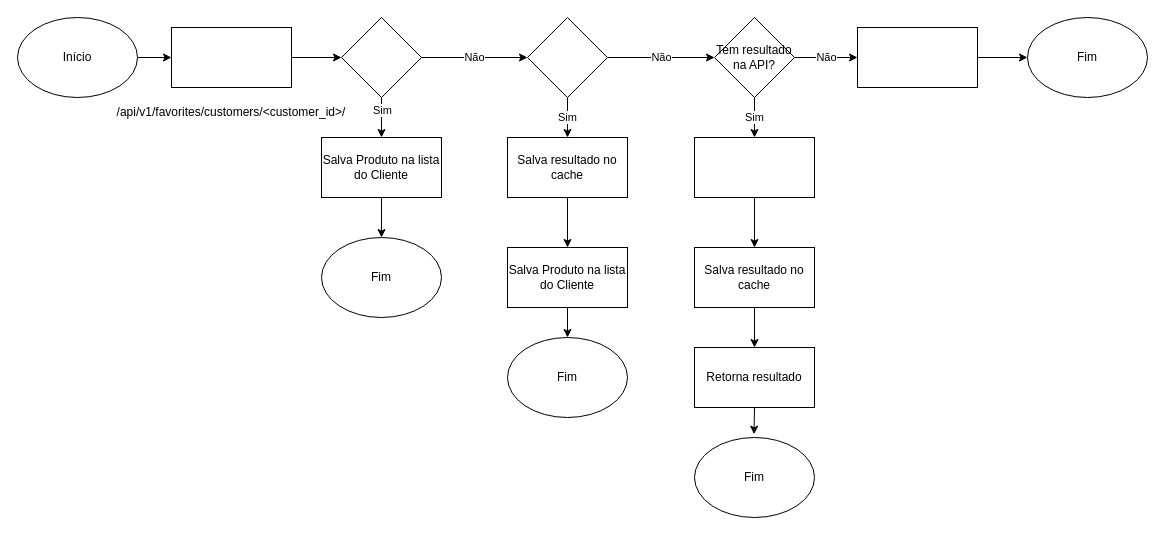
The diagram is 1165 pixels wide and 535 high, and some of its shapes have lost their labels. The shapes that lost their labels are listed below. From the top down, each one's centre as x and y in pixels, then its label:
(x=231, y=57): Request
(x=381, y=57): Tem resultado no cache?
(x=567, y=57): Tem resultado no banco?
(x=917, y=57): Informa que não existe produto
(x=754, y=167): Salva resultado no banco
